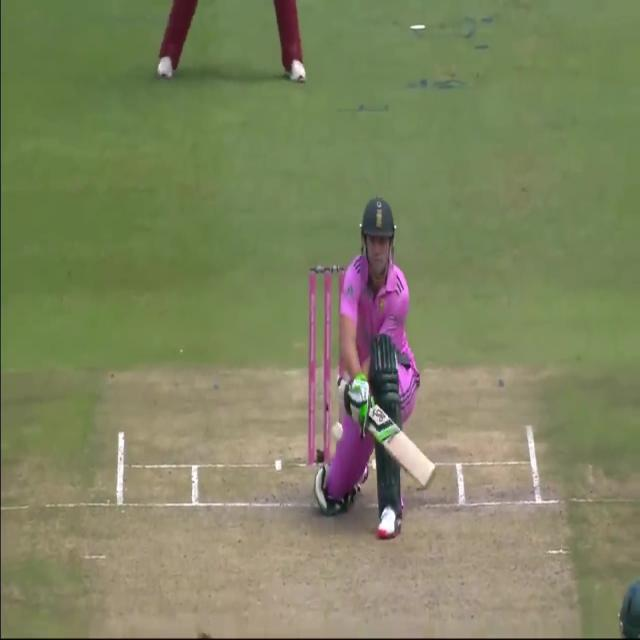Ball: (304, 198, 435, 540)
Fielder: (153, 0, 315, 87)
